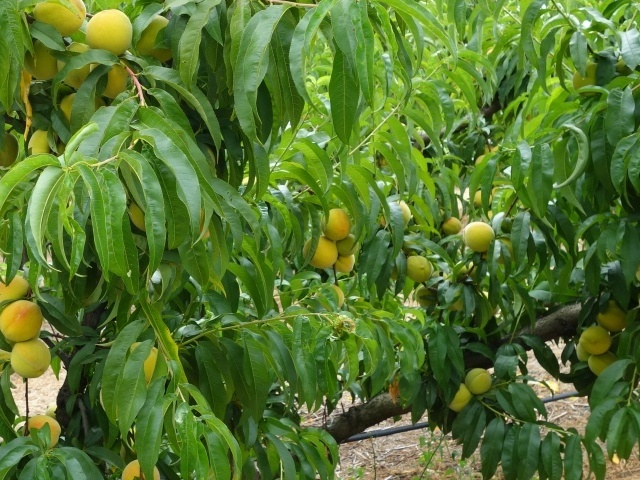peach: (77, 6, 135, 60), (8, 331, 57, 383), (25, 120, 72, 170), (135, 13, 182, 63), (17, 36, 65, 82), (58, 40, 106, 86), (92, 59, 141, 103), (1, 297, 47, 343), (28, 1, 88, 35), (15, 414, 67, 452), (298, 231, 341, 272), (458, 216, 498, 253), (592, 294, 628, 332), (585, 342, 620, 381), (319, 202, 353, 242), (578, 322, 614, 359), (572, 60, 606, 99), (447, 378, 480, 415), (462, 363, 496, 397), (1, 269, 34, 304), (404, 251, 436, 286), (119, 454, 162, 479), (331, 248, 362, 281), (333, 231, 363, 260), (1, 130, 21, 170), (413, 282, 439, 312), (57, 90, 80, 121), (439, 212, 464, 239)
